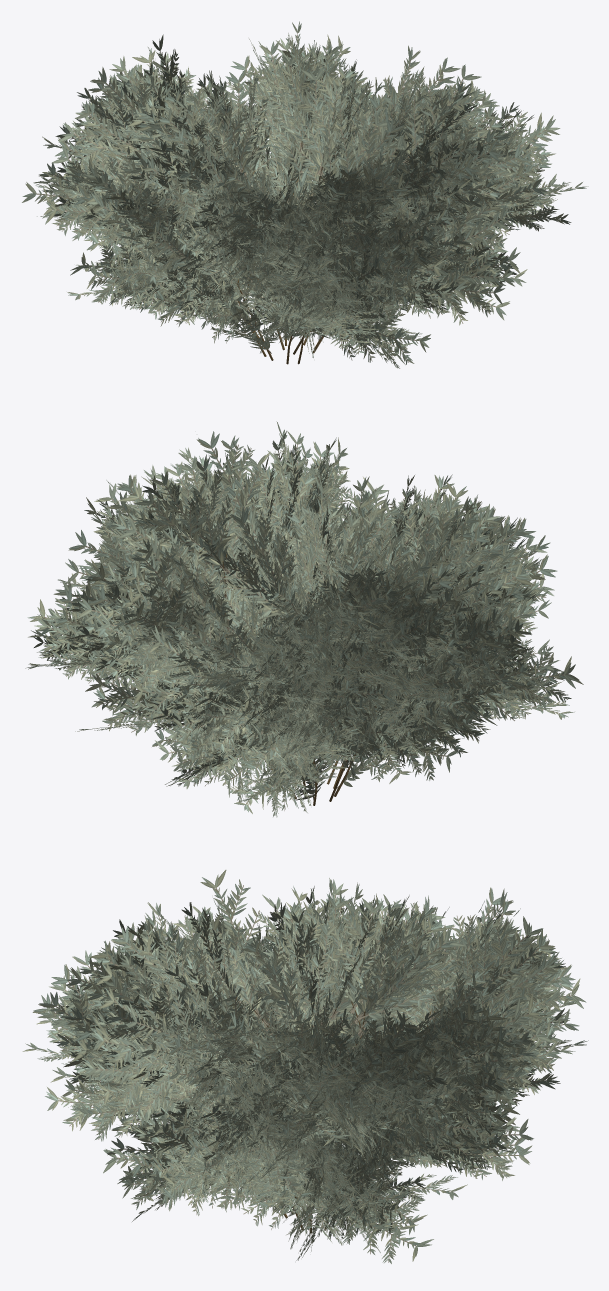
Rendered from sagebrush_grey_v01.fbx.
3 renders of one model, top to bottom at view 1: azimuth 30°, elevation 25°; view 2: azimuth 150°, elevation 25°; view 3: azimuth 270°, elevation 25°, orthographic. The views are drawn at different scales.
Visible parts, largest first — view 1: sagebrush_grey_v01; view 2: sagebrush_grey_v01; view 3: sagebrush_grey_v01.
Boxes of the visible parts, x1=… form: sagebrush_grey_v01: x1=22, y1=21, x2=588, y2=368; sagebrush_grey_v01: x1=25, y1=421, x2=583, y2=817; sagebrush_grey_v01: x1=22, y1=870, x2=588, y2=1263.
Bounding box in the file's own units: 116 × 65 × 105.
2 materials, 2 textured.
